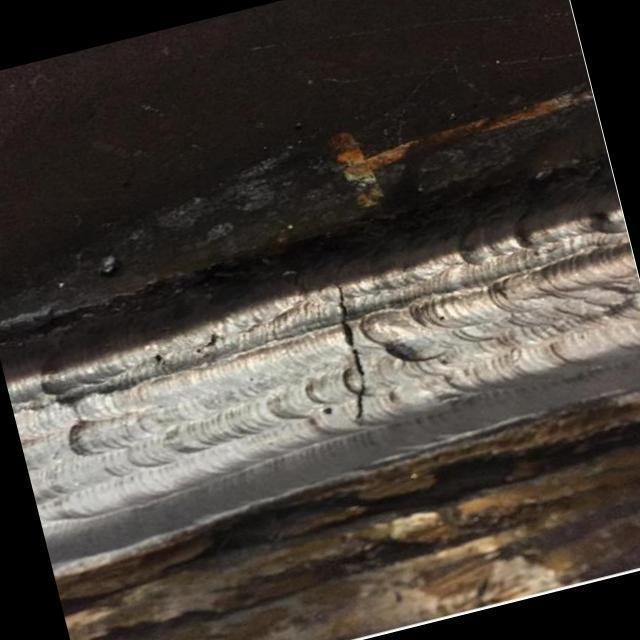defect: (333, 278, 370, 423)
